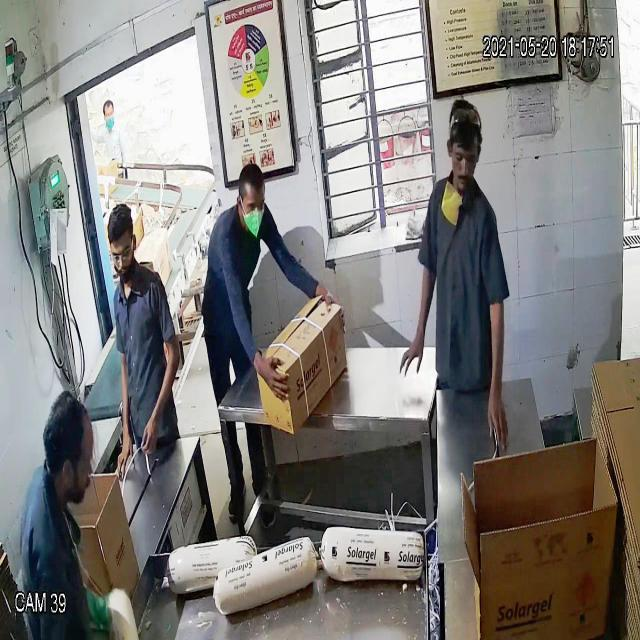glasses: (105, 239, 139, 269)
no-glass: (445, 139, 485, 173), (235, 187, 271, 217)
